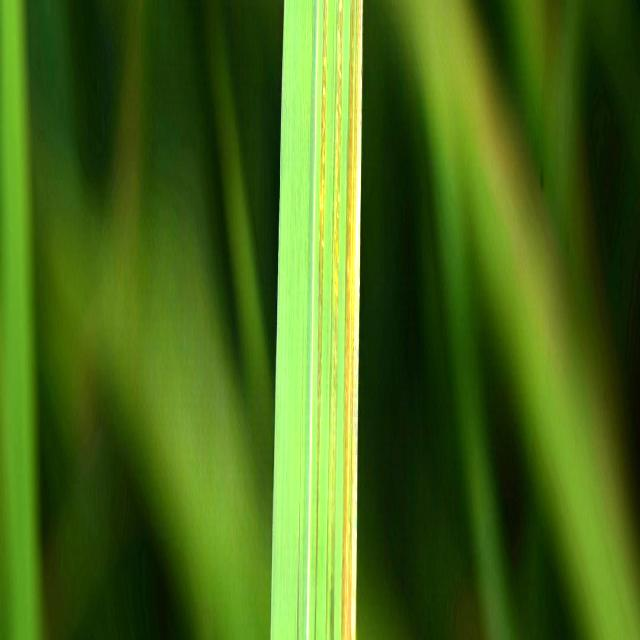BLS: (341, 0, 363, 640), (330, 0, 343, 640), (325, 0, 338, 640), (314, 0, 327, 640), (297, 443, 300, 640)
